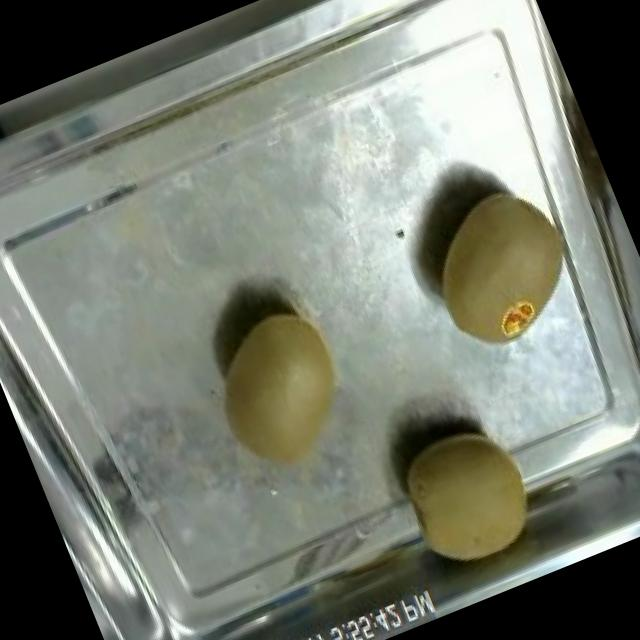Fruit: (400, 163, 602, 370), (184, 284, 380, 496), (376, 402, 558, 594)
